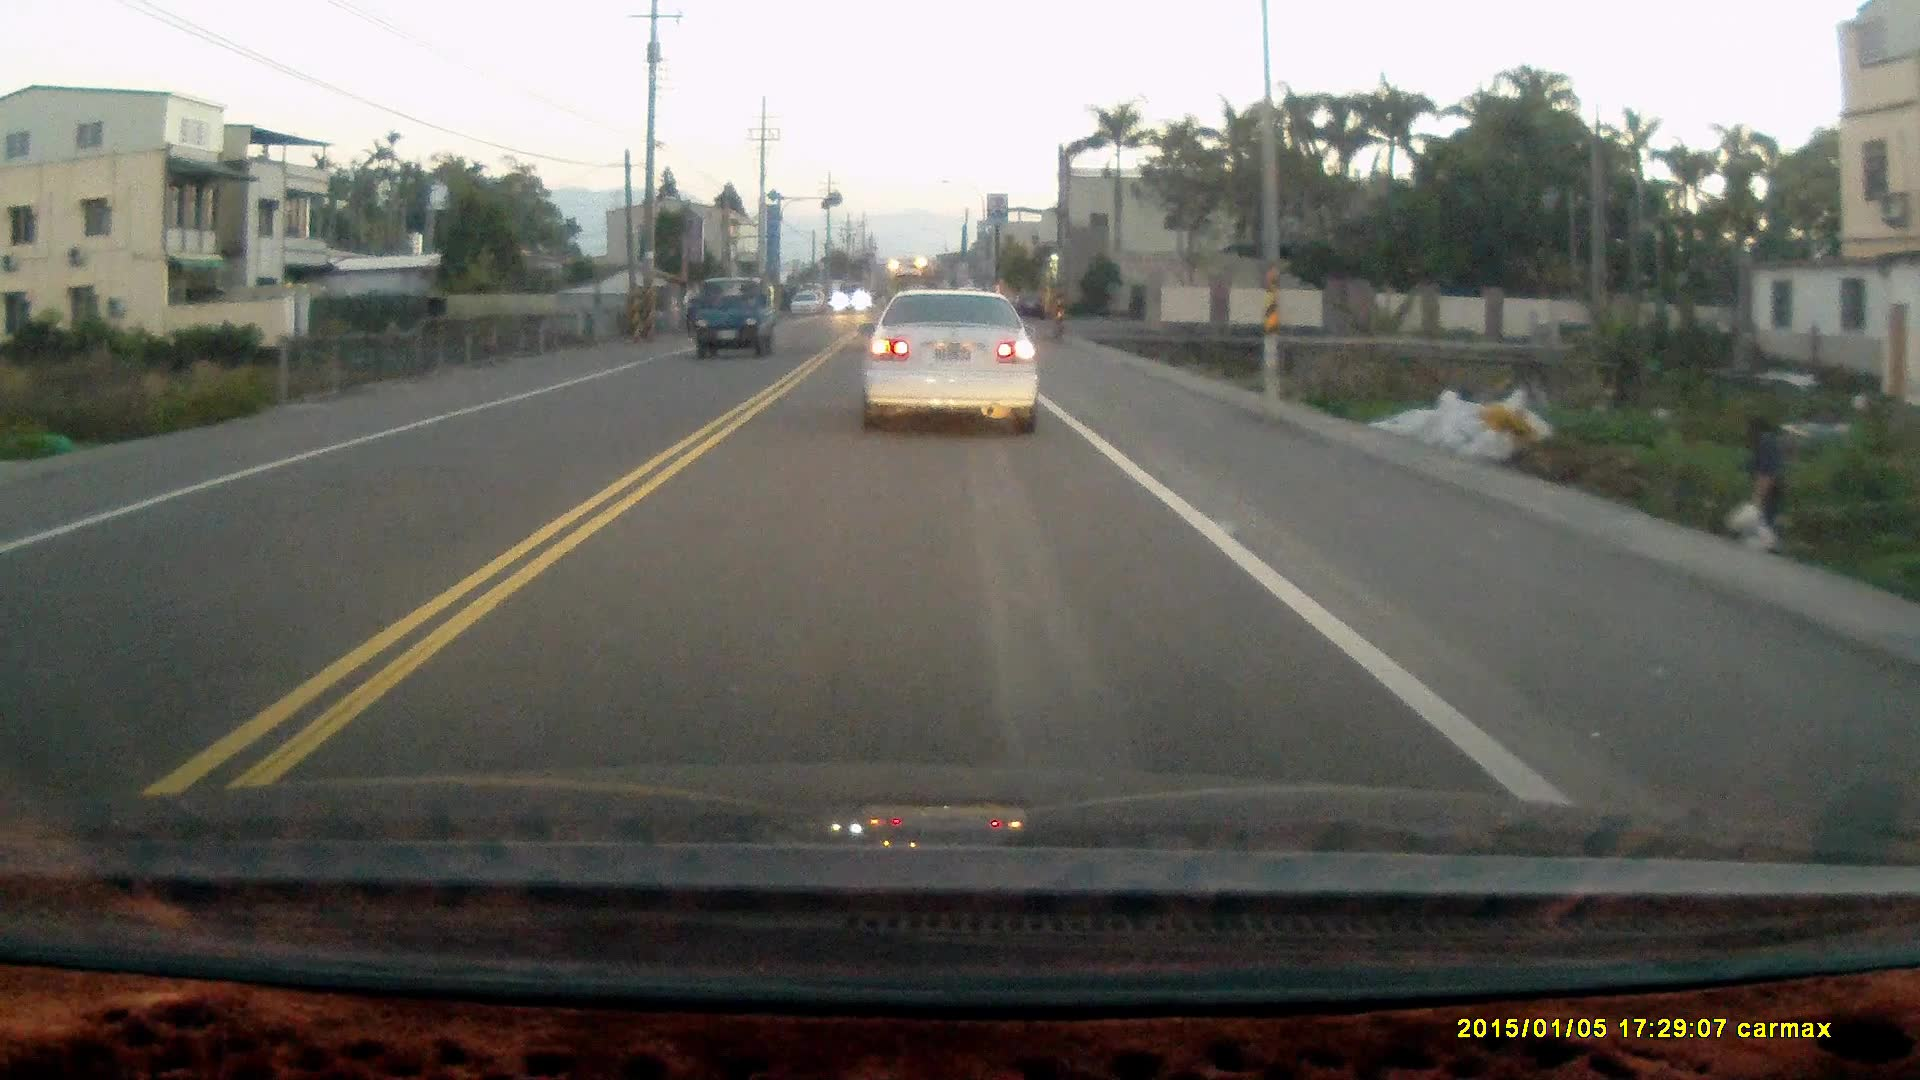pedestrian: (1732, 415, 1785, 565)
rider: (679, 276, 707, 340)
vehicle: (864, 288, 1045, 429), (694, 276, 780, 356), (837, 281, 865, 313), (791, 291, 822, 316)
